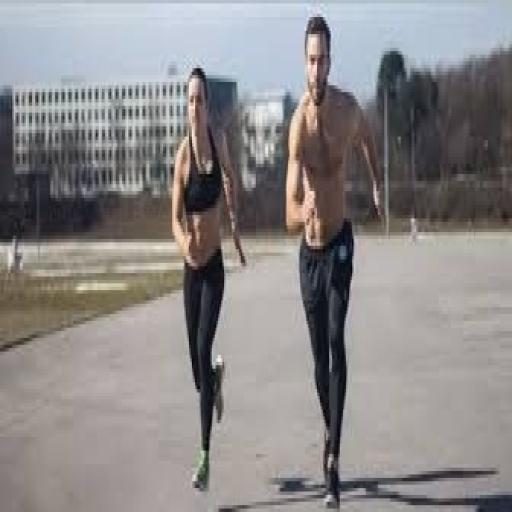running: (282, 10, 385, 509), (169, 61, 250, 495)
